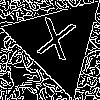X: (32, 17, 77, 70)
